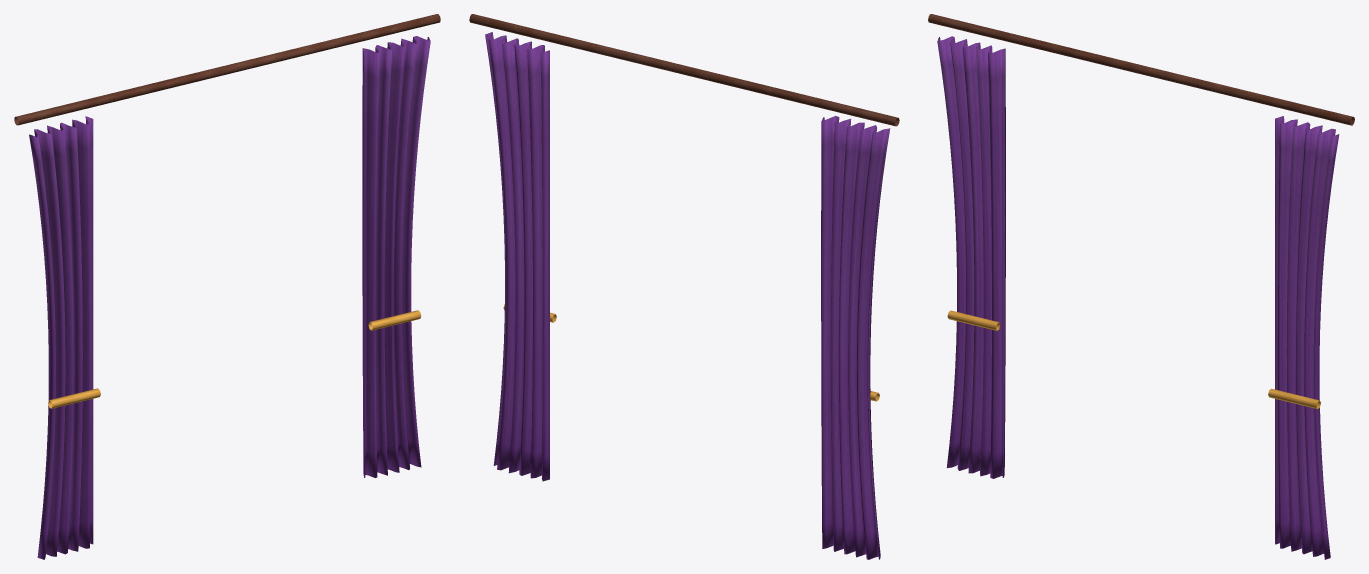
The model's file is V5_CurtainPair.fbx.
3 renders of one model, left to right at view 1: azimuth 30°, elevation 25°; view 2: azimuth 150°, elevation 25°; view 3: azimuth 330°, elevation 25°, orthographic.
Parts seen in each view (by area): view 1: V5_CurtainPair; view 2: V5_CurtainPair; view 3: V5_CurtainPair.
Part boxes in pixels (bbox=[...]): V5_CurtainPair: bbox=[14, 14, 440, 559]; V5_CurtainPair: bbox=[469, 14, 899, 559]; V5_CurtainPair: bbox=[928, 14, 1354, 559].
Size of the model in its own units: 2.7 by 2.72 by 0.1448.
1 material, 1 textured.
